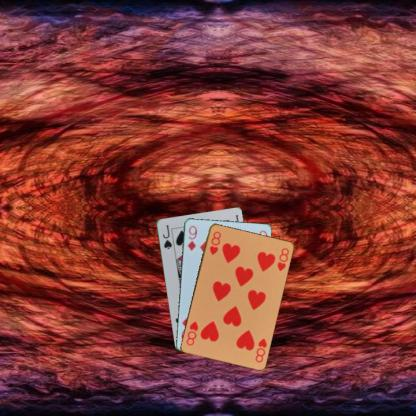8h: (253, 335, 268, 364), (207, 229, 222, 256)
9d: (185, 223, 198, 252)
Js: (160, 223, 173, 250)
